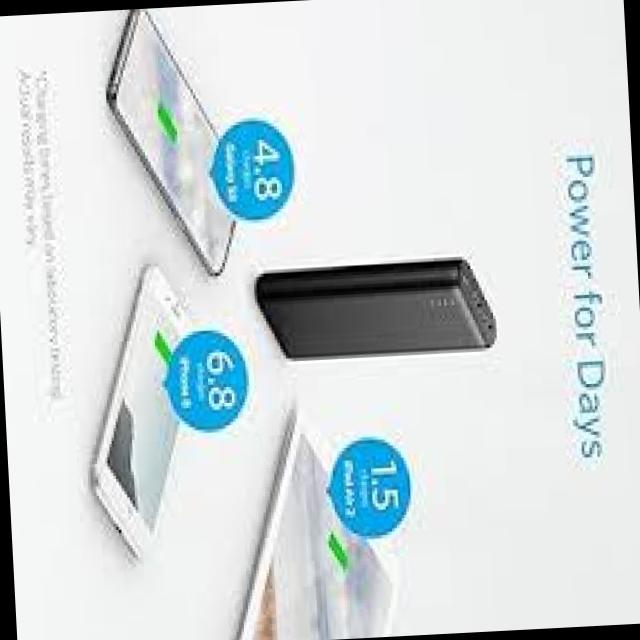portable-charger: (252, 254, 499, 368)
